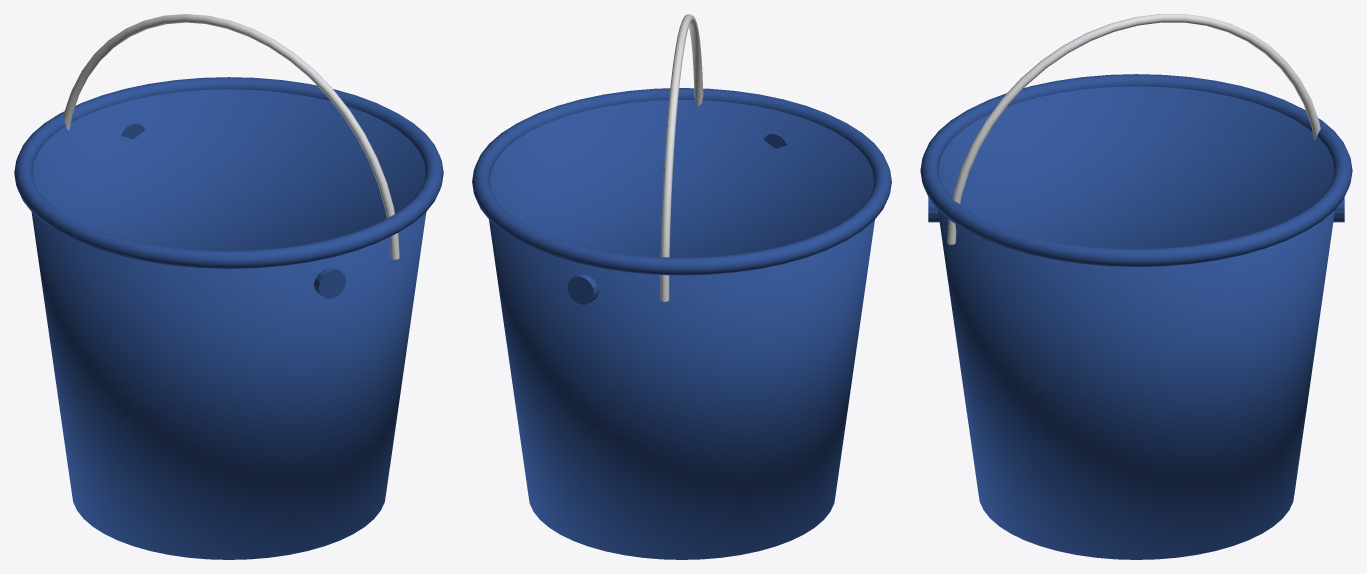
The model's file is Seau.fbx.
The picture shows the model from 3 angles, left to right: view 1: azimuth 30°, elevation 25°; view 2: azimuth 150°, elevation 25°; view 3: azimuth 270°, elevation 25°; orthographic projection. The views are drawn at different scales.
Parts seen in each view (by area): view 1: Seau_Body, Seau_Rim, Seau_Bail, Seau_Ear-1; view 2: Seau_Body, Seau_Rim, Seau_Bail, Seau_Ear+1; view 3: Seau_Body, Seau_Rim, Seau_Bail.
Part boxes in pixels (x1,y1,x2,y2): Seau_Body: (31,89,426,559); Seau_Rim: (14,77,443,268); Seau_Bail: (63,14,399,259); Seau_Ear-1: (314,267,345,298); Seau_Body: (489,99,874,559); Seau_Rim: (472,88,891,275); Seau_Bail: (660,14,703,301); Seau_Ear+1: (567,274,598,304); Seau_Body: (938,86,1334,559); Seau_Rim: (920,74,1352,267); Seau_Bail: (947,14,1320,244).
Bounding box in the file's own units: 0.328 × 0.3985 × 0.328.
